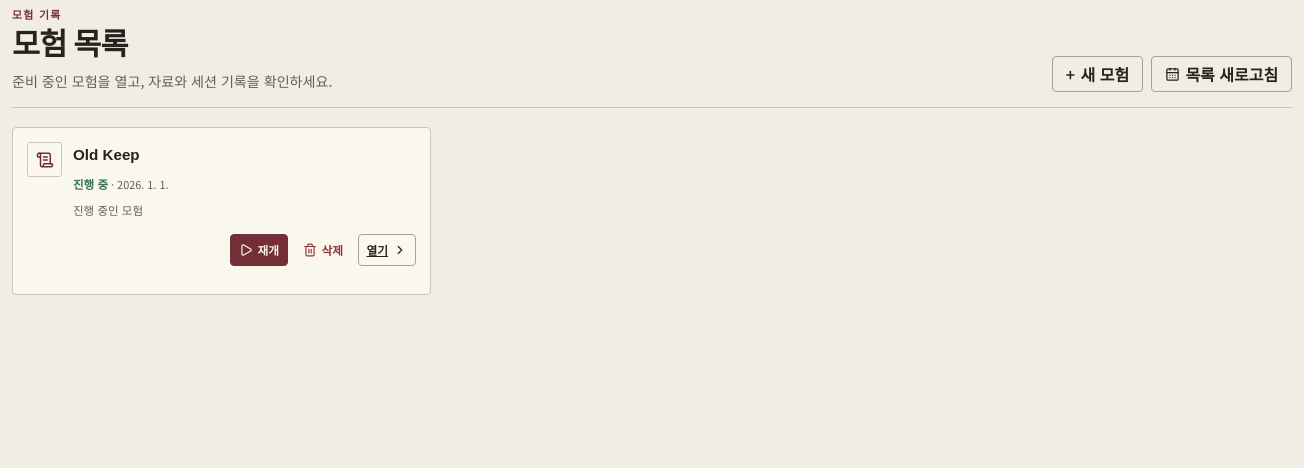
Test: lists, resumes, and deletes adventures
This screenshot has width=1304, height=468.
Expected: the text "Old Keep" is shown, [73,146,140,163]
Click the button "재개": (259, 250) [230,234,288,266]
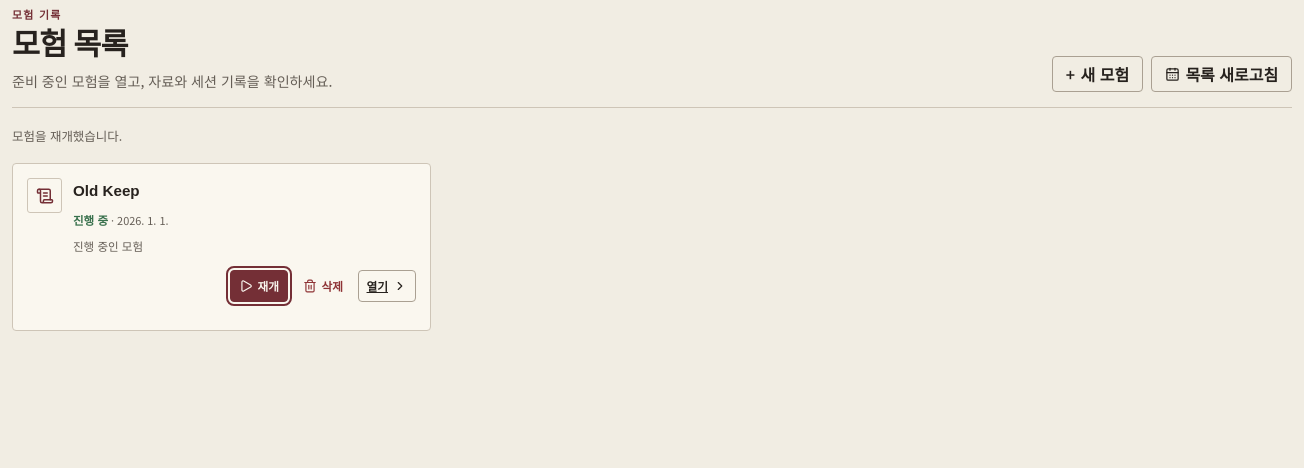
Expected: the text "모험을 재개했습니다." is shown, [12,127,122,145]
Click the button with aria-label "Old Keep 삭제": (323, 286) [294,270,352,302]
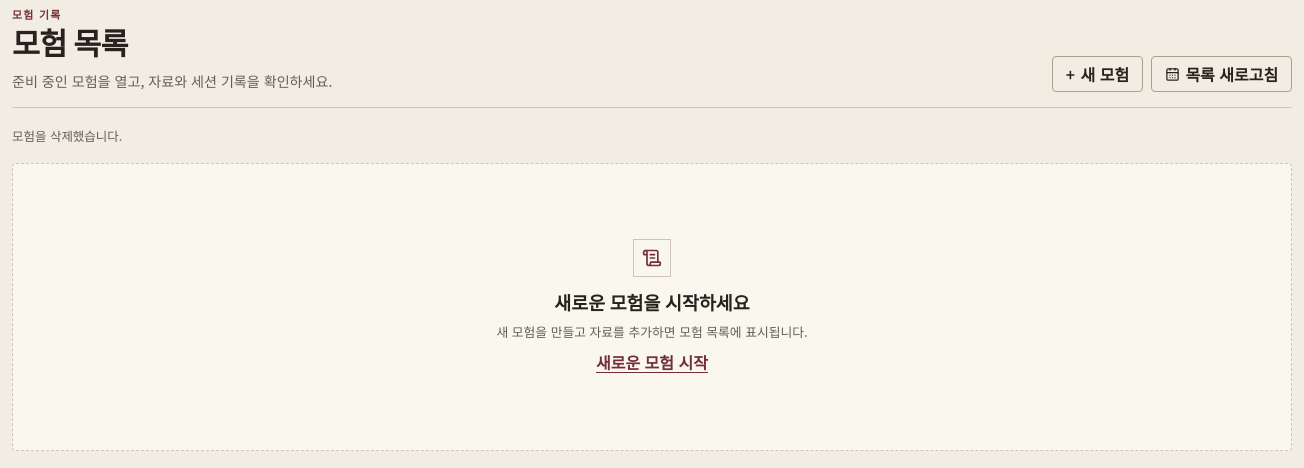
Expected: the text "Old Keep" is gone
